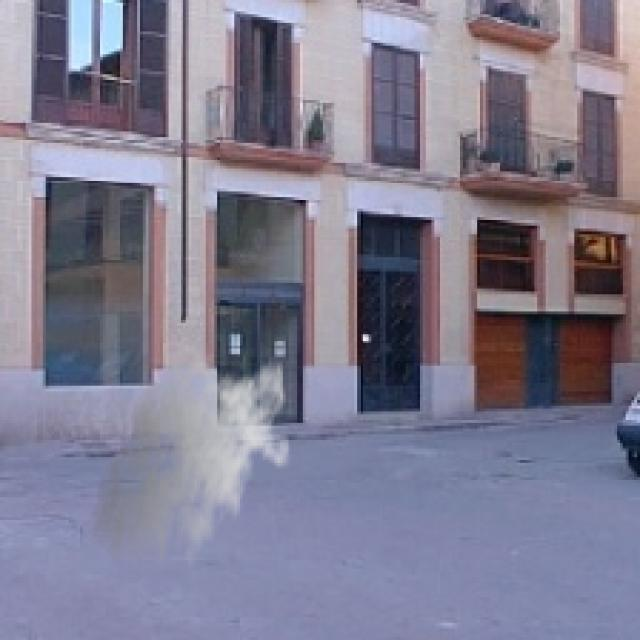smoke: (91, 348, 292, 583)
